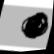correct: (16, 7, 53, 45)
